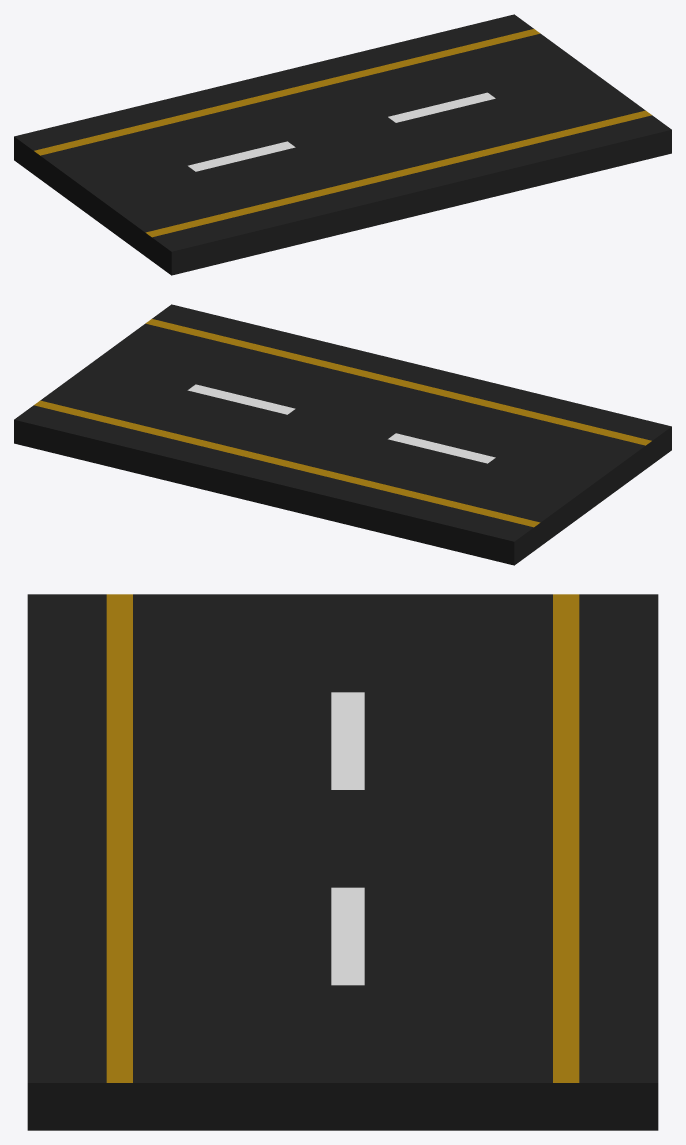
File: Road 2 Lanes .fbx
3 views of the same model, one above another, from view 1: azimuth 30°, elevation 25°; view 2: azimuth 150°, elevation 25°; view 3: azimuth 270°, elevation 25° (orthographic). The views are drawn at different scales.
Visible parts, largest first — view 1: Cube; view 2: Cube; view 3: Cube.
Part boxes in pixels (x1,y1,x2,y2): Cube: [14, 14, 671, 275]; Cube: [14, 304, 671, 565]; Cube: [27, 594, 658, 1130].
Bounding box in the file's own units: 4400 × 200 × 2400.
